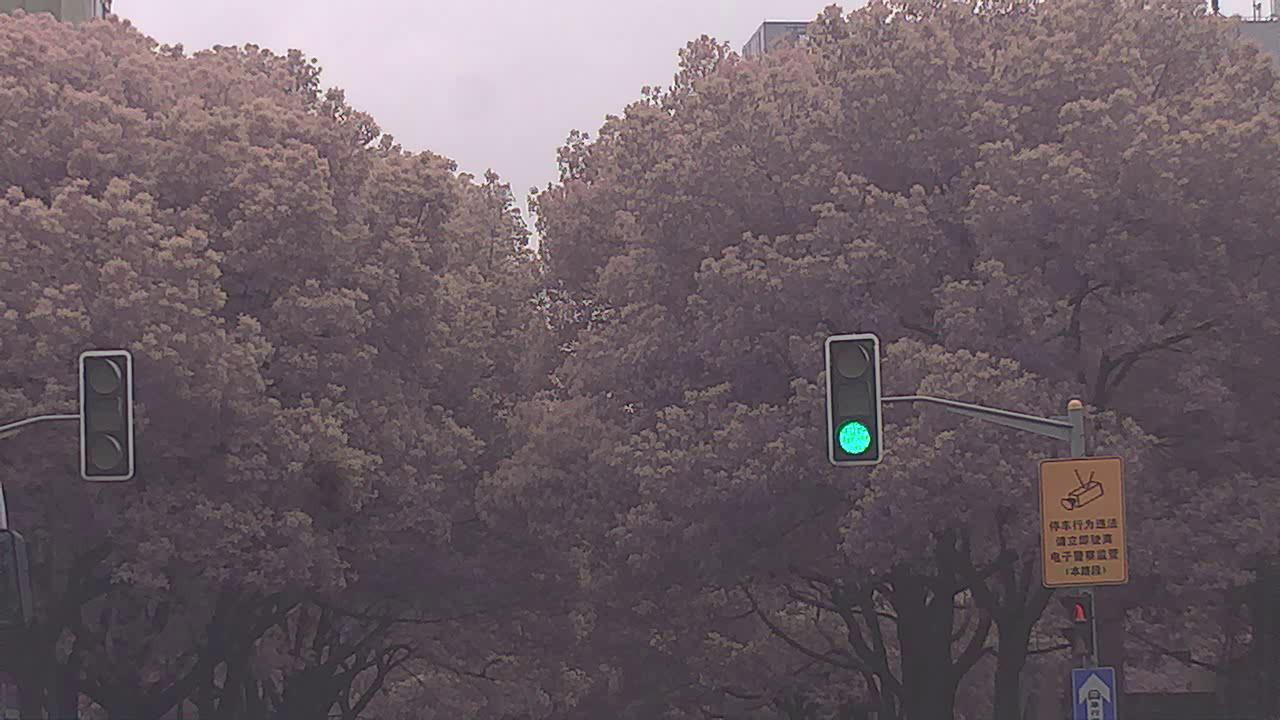traffic_light: (826, 330, 886, 461), (88, 356, 131, 485)
